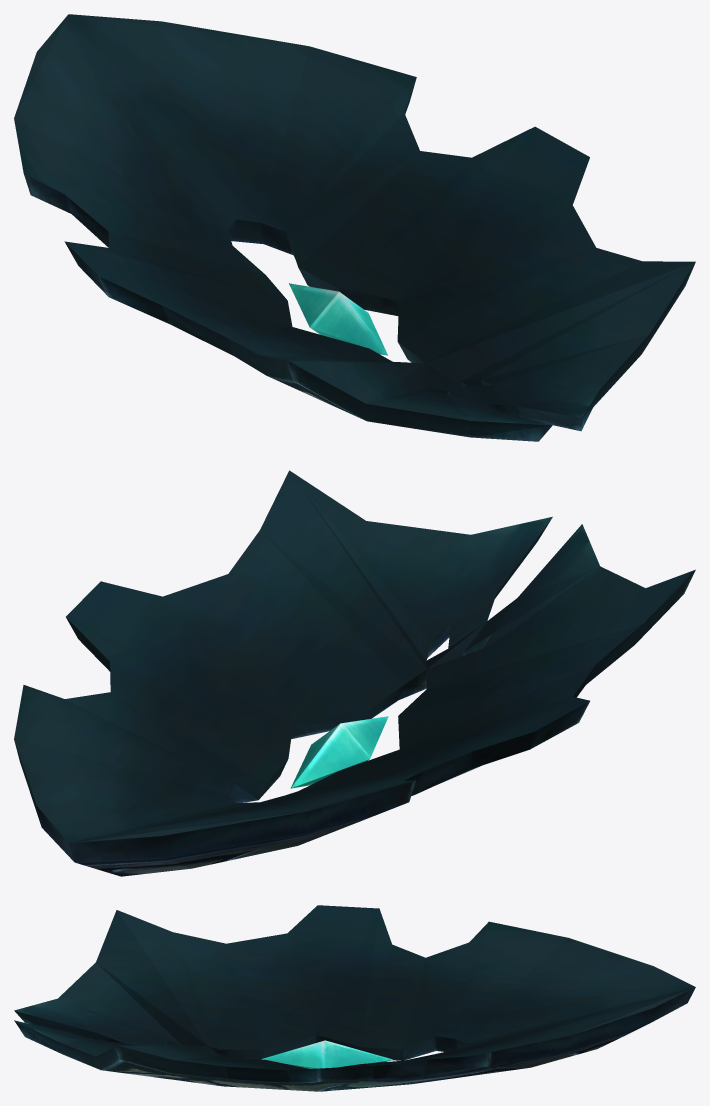
File: common_lefthandshield_64035.obj
3 renders of one model, top to bottom at view 1: azimuth 30°, elevation 25°; view 2: azimuth 150°, elevation 25°; view 3: azimuth 270°, elevation 25°, orthographic. The views are drawn at different scales.
Visible parts, largest first — view 1: common_LeftHandShield_64032; view 2: common_LeftHandShield_64032; view 3: common_LeftHandShield_64032.
Boxes of the visible parts, bbox=[...] form: common_LeftHandShield_64032: bbox=[14, 14, 695, 441]; common_LeftHandShield_64032: bbox=[14, 470, 695, 876]; common_LeftHandShield_64032: bbox=[14, 905, 695, 1091].
Size of the model in its own units: 22.71 by 6.59 by 40.06.
1 material, 1 textured.
